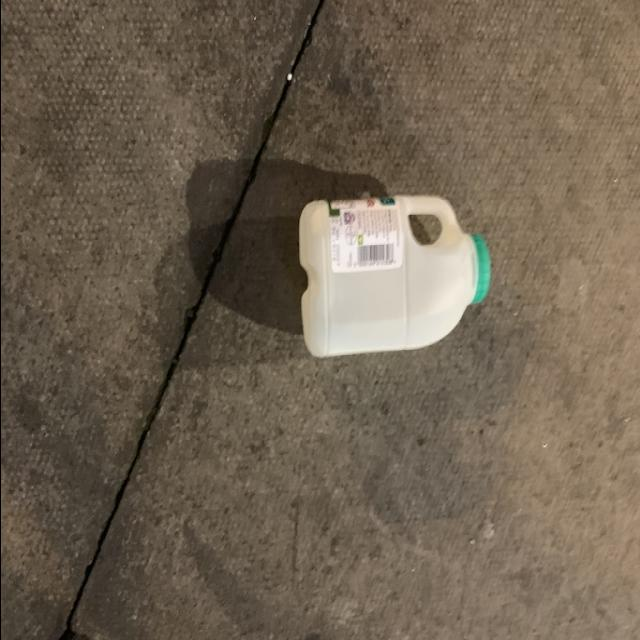litter: (295, 194, 493, 368)
